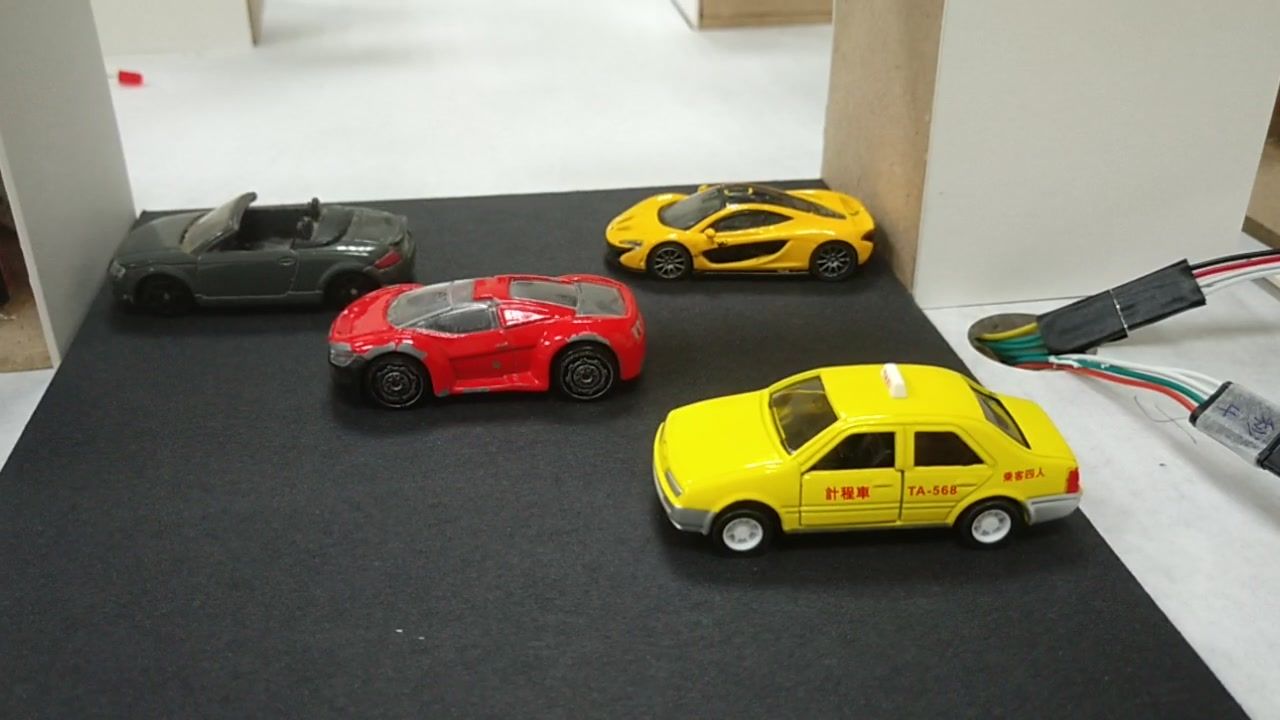car: (662, 366, 1080, 543), (340, 273, 648, 403), (114, 197, 415, 311), (602, 182, 875, 280)
